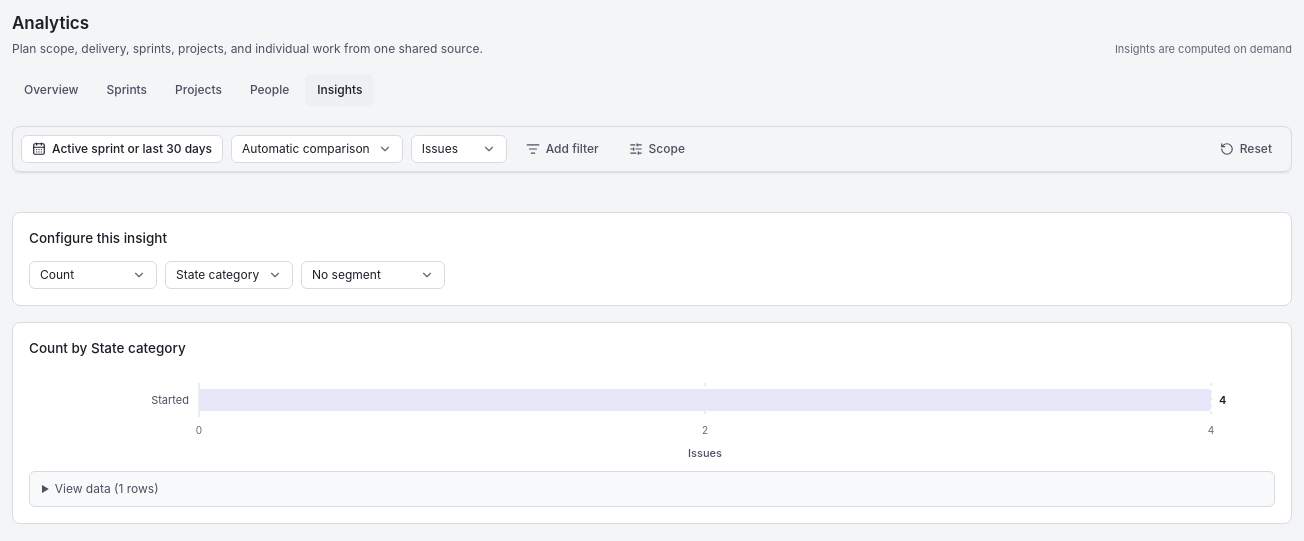
AnalyticsCockpit › stops rendering the insights pickers and chart once the lens is switched away
Expected: the dropdown named "Insight measure" is shown, 29,261 -> 157,289
Click the tab "Overview".
click(51, 90)  # box 12,74 -> 90,106
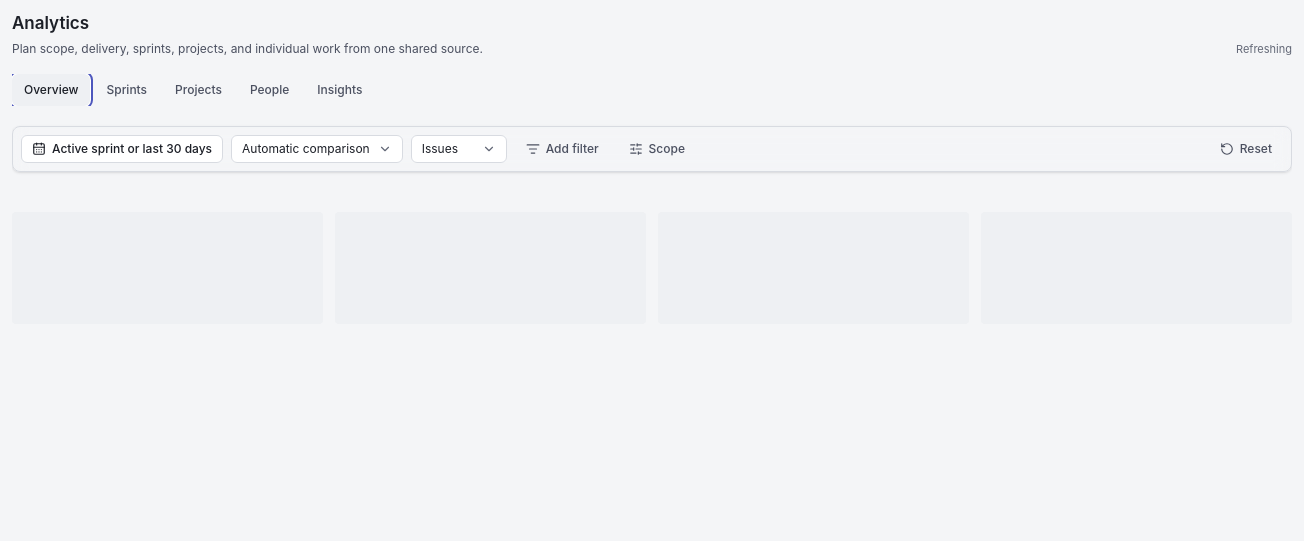
Expected: the heading "Count by State category" is gone
